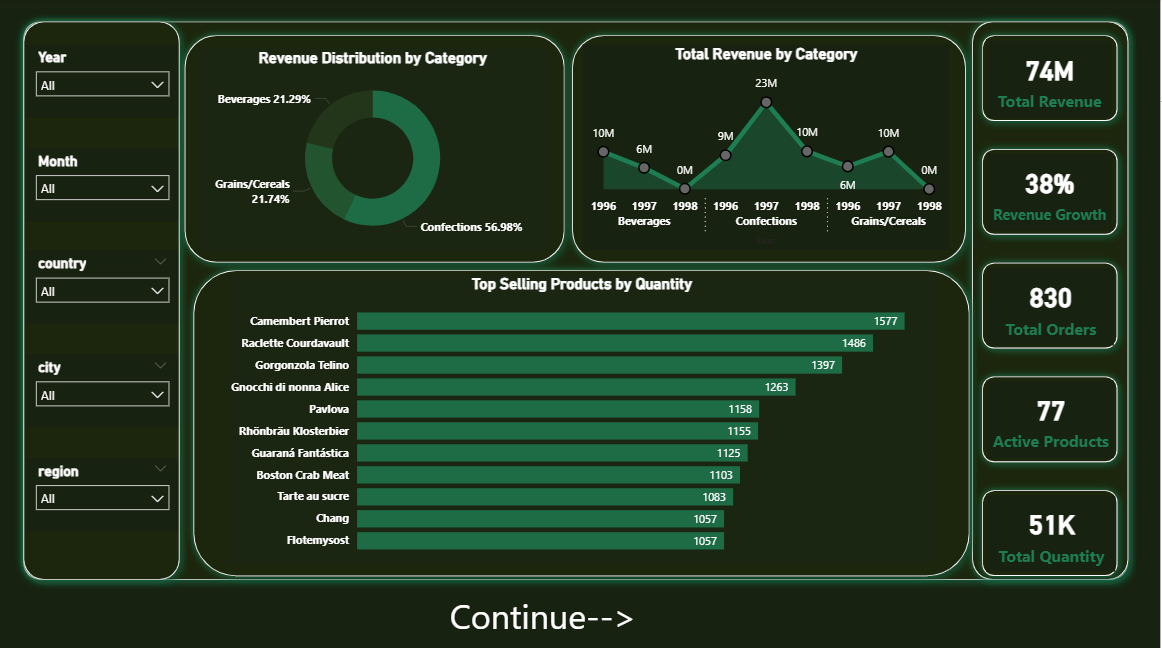

What the dashboard file says about the page in this screenshot:
{"tool":"powerbi","page":{"name":"Overview","canvas":[1280,720],"ordinal":1},"visuals":[{"type":"shape","box":[23,17.3,1230.6,631],"z":0},{"type":"shape","box":[23,17.3,189.4,631],"z":1000},{"type":"shape","box":[1064.2,18.5,189.4,631],"z":2000},{"type":"shape","box":[200.6,32.9,435,267.6],"z":3000},{"type":"shape","box":[210.2,290.9,870,354],"z":4000},{"type":"shape","box":[626,32.9,450.1,267.6],"z":5000},{"type":"shape","box":[1076.3,33,166.5,112.2],"z":6000},{"type":"shape","box":[1076.3,157.9,166.5,112.2],"z":7000},{"type":"shape","box":[1076.3,282.7,166.5,112.2],"z":8000},{"type":"shape","box":[1076.3,407.6,166.5,112.2],"z":9000},{"type":"shape","box":[1076.3,532.5,166.5,112.2],"z":10000},{"type":"card","fields":{"Values":["Dax_Measures.Total Revenue"]},"box":[1090.7,47.5,136.3,84.5],"z":11000},{"type":"card","fields":{"Values":["Dax_Measures.Total Quantity"]},"box":[1090.7,546.9,139.9,83.2],"z":12000},{"type":"card","fields":{"Values":["Dax_Measures.Total Orders"]},"box":[1090.7,297.2,138.7,84.5],"z":13000},{"type":"card","fields":{"Values":["Dax_Measures.Active Products"]},"box":[1090.7,421.5,138.7,84.5],"z":14000},{"type":"card","fields":{"Values":["Dax_Measures.Revenue Growth"]},"box":[1090.7,171.7,136.3,84.5],"z":15000},{"type":"slicer","fields":{"Values":["DateTable.Year"]},"box":[35.1,52.3,166.5,79.6],"z":16000},{"type":"slicer","fields":{"Values":["DateTable.Month"]},"box":[35.1,165.7,166.5,79.6],"z":17000},{"type":"slicer","fields":{"Values":["SuppliersDim.country"]},"box":[35.1,279.1,166.5,79.6],"z":18000},{"type":"slicer","fields":{"Values":["CustomersDim.city"]},"box":[35.1,392.5,166.5,79.6],"z":19000},{"type":"slicer","fields":{"Values":["CustomersDim.region"]},"box":[35.1,505.9,166.5,79.6],"z":20000},{"type":"donutChart","title":"Revenue Distribution by Category","fields":{"Category":["CategoryDim.categoryName"],"Y":["Dax_Measures.Total Revenue"]},"box":[222.6,56.3,387,222.3],"z":21000},{"type":"barChart","title":"Top Selling Products by Quantity","fields":{"Category":["ProductDim.productName"],"Y":["Dax_Measures.Total Quantity"]},"box":[254.1,304.6,783.5,317],"z":22000},{"type":"lineChart","title":"Total Revenue by Category","fields":{"Y":["Dax_Measures.Total Revenue"],"Category":["CategoryDim.categoryName","DateTable.Year"]},"box":[646.6,52.1,403.4,226.4],"z":23000},{"type":"textbox","box":[495.4,649.1,301.9,71.4],"z":24000},{"type":"actionButton","box":[495.4,649.1,222.3,54.9],"z":25000}]}

Visuals, with their boxes in screenshot pixels (x1, y1, x2, y2), scaled from the page's 1280x720 canvas onto the 1162x648 screenshot:
shape: 21, 16, 1138, 583
shape: 21, 16, 193, 583
shape: 966, 17, 1138, 585
shape: 182, 30, 577, 270
shape: 191, 262, 981, 580
shape: 568, 30, 977, 270
shape: 977, 30, 1128, 131
shape: 977, 142, 1128, 243
shape: 977, 254, 1128, 355
shape: 977, 367, 1128, 468
shape: 977, 479, 1128, 580
card - Dax_Measures.Total Revenue: 990, 43, 1114, 119
card - Dax_Measures.Total Quantity: 990, 492, 1117, 567
card - Dax_Measures.Total Orders: 990, 267, 1116, 344
card - Dax_Measures.Active Products: 990, 379, 1116, 455
card - Dax_Measures.Revenue Growth: 990, 155, 1114, 231
slicer - DateTable.Year: 32, 47, 183, 119
slicer - DateTable.Month: 32, 149, 183, 221
slicer - SuppliersDim.country: 32, 251, 183, 323
slicer - CustomersDim.city: 32, 353, 183, 425
slicer - CustomersDim.region: 32, 455, 183, 527
"Revenue Distribution by Category" donutChart: 202, 51, 553, 251
"Top Selling Products by Quantity" barChart: 231, 274, 942, 559
"Total Revenue by Category" lineChart: 587, 47, 953, 251
textbox: 450, 584, 724, 647
actionButton: 450, 584, 652, 634
